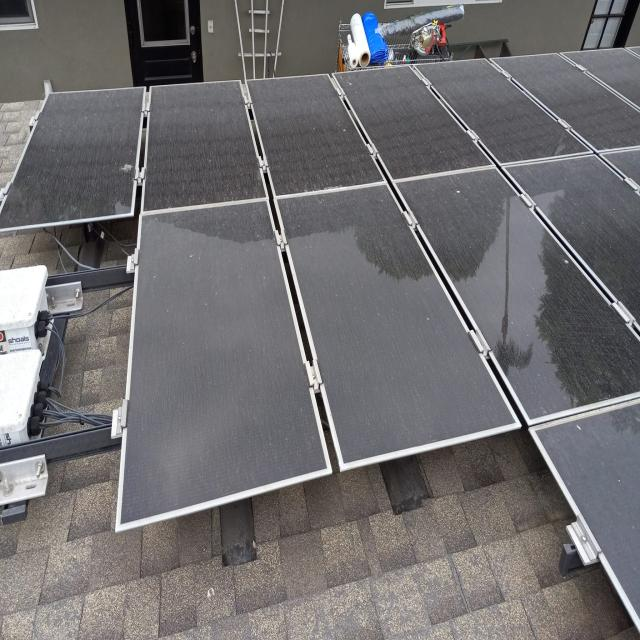dust-solar-panel: (0, 44, 640, 627)
